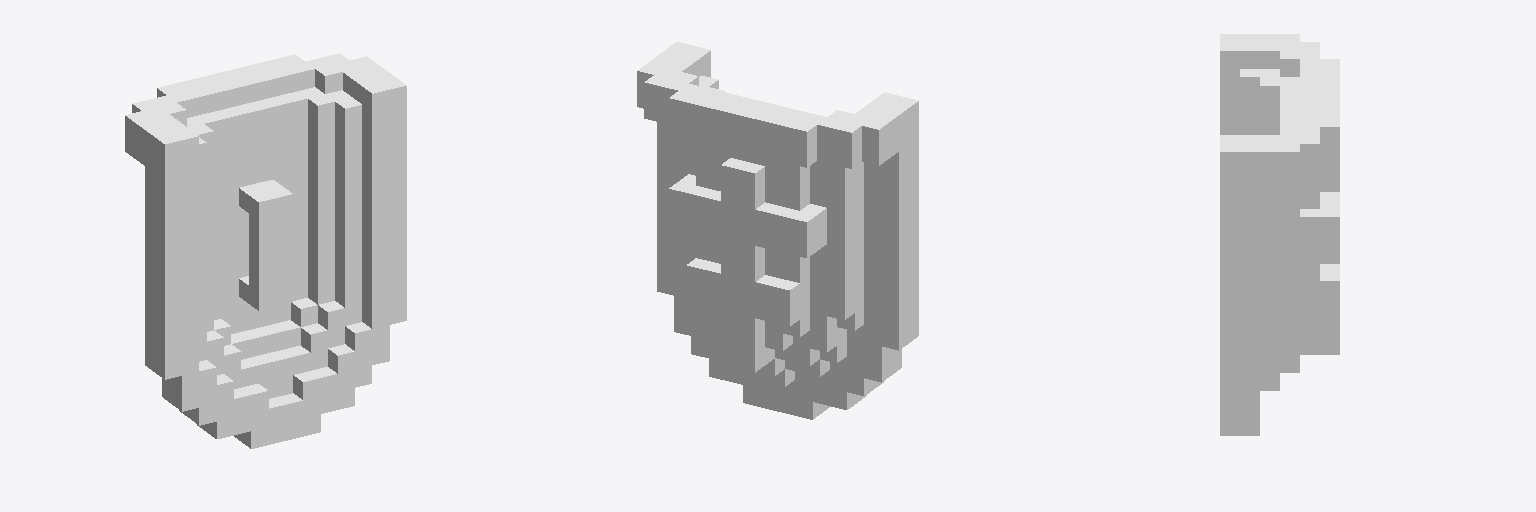
File: shieldTriangle.vox.obj
The picture shows the model from 3 angles: view 1: azimuth 30°, elevation 25°; view 2: azimuth 150°, elevation 25°; view 3: azimuth 270°, elevation 25°; orthographic projection.
Visible parts, largest first — view 1: object 1; view 2: object 1; view 3: object 1.
Part boxes in pixels (x1,y1,x2,y2): object 1: (125, 53, 406, 448); object 1: (637, 42, 918, 419); object 1: (1220, 34, 1339, 435).
Bounding box in the file's own units: 1.4 × 1.8 × 0.6.